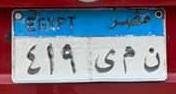1: (45, 42, 57, 78)
4: (24, 43, 42, 75)
9: (60, 42, 79, 77)
meem: (121, 42, 136, 73)
noon: (143, 45, 162, 75)
yaa: (93, 46, 117, 76)
